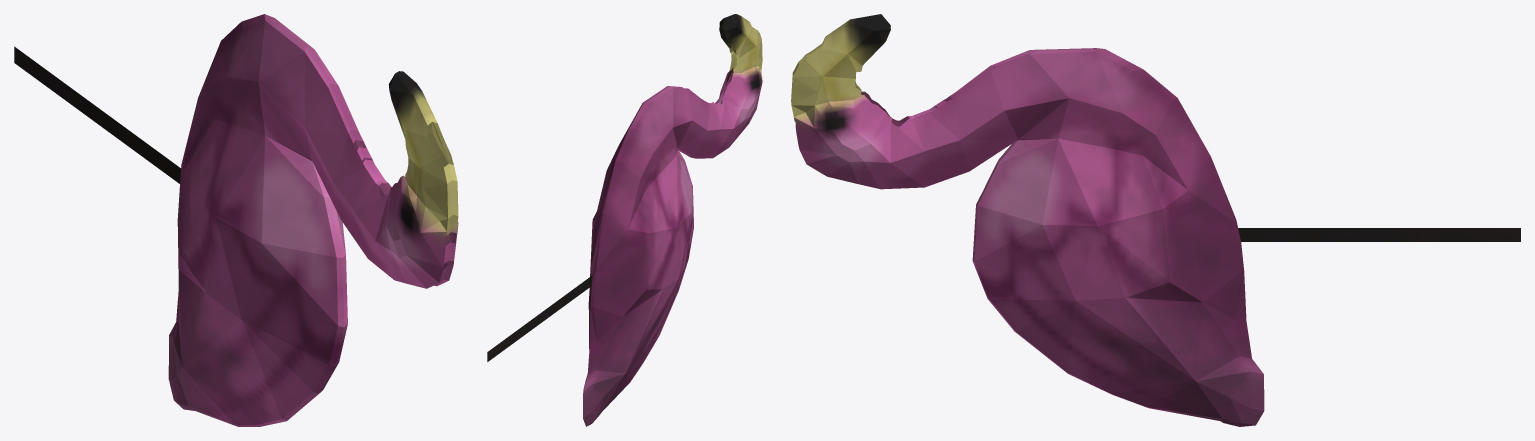
3 renders of one model, left to right at view 1: azimuth 30°, elevation 25°; view 2: azimuth 150°, elevation 25°; view 3: azimuth 270°, elevation 25°, orthographic. The views are drawn at different scales.
Size of the model in its own units: 0.1399 by 0.6245 by 1.
